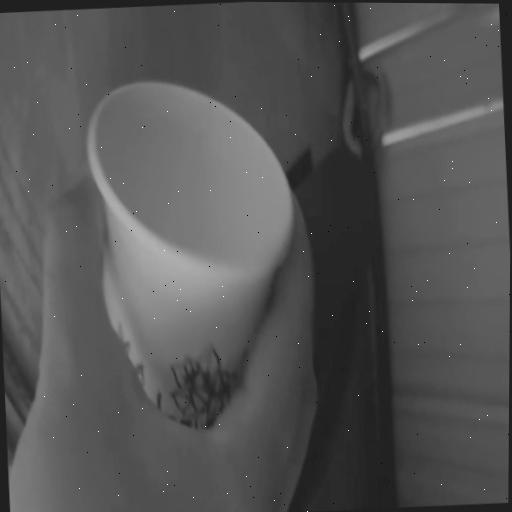Ly_giay: (86, 83, 291, 426)
